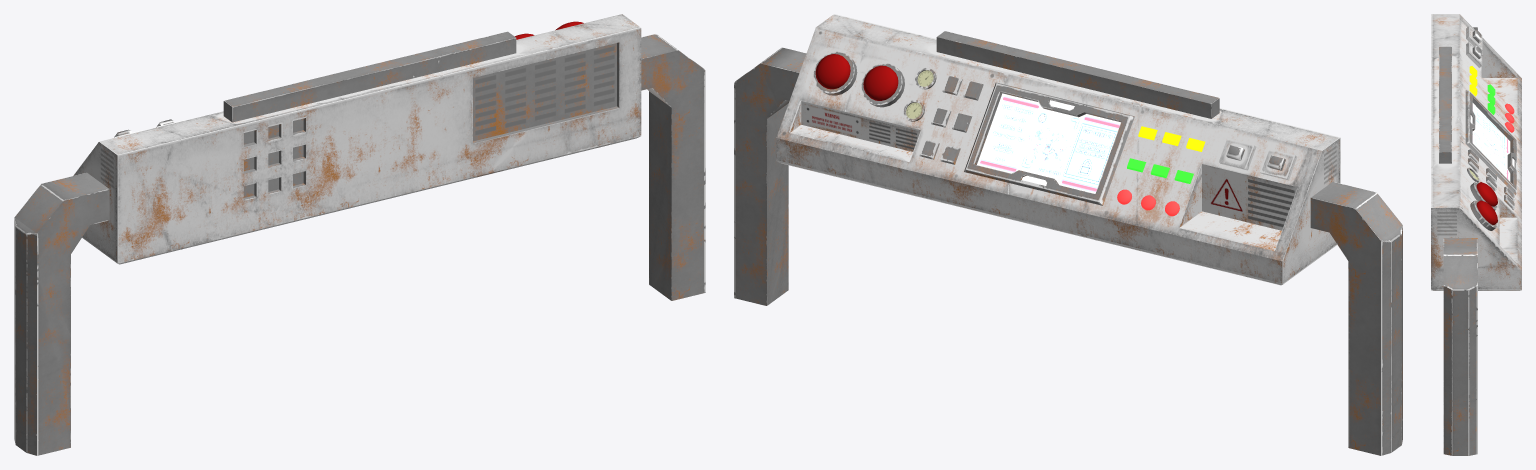
The model's file is sci-fi_computer_console.glb.
3 renders of one model, left to right at view 1: azimuth 30°, elevation 25°; view 2: azimuth 150°, elevation 25°; view 3: azimuth 270°, elevation 25°, orthographic. The views are drawn at different scales.
Parts seen in each view (by area): view 1: polySurface655; view 2: polySurface655; view 3: polySurface655.
Part boxes in pixels (box(x1,y1,x2,y2)): polySurface655: box(14, 14, 705, 455); polySurface655: box(734, 14, 1402, 455); polySurface655: box(1431, 14, 1521, 455).
Bounding box in the file's own units: 276 × 118 × 42.11.
Materials: 1 (1 with a texture image).
